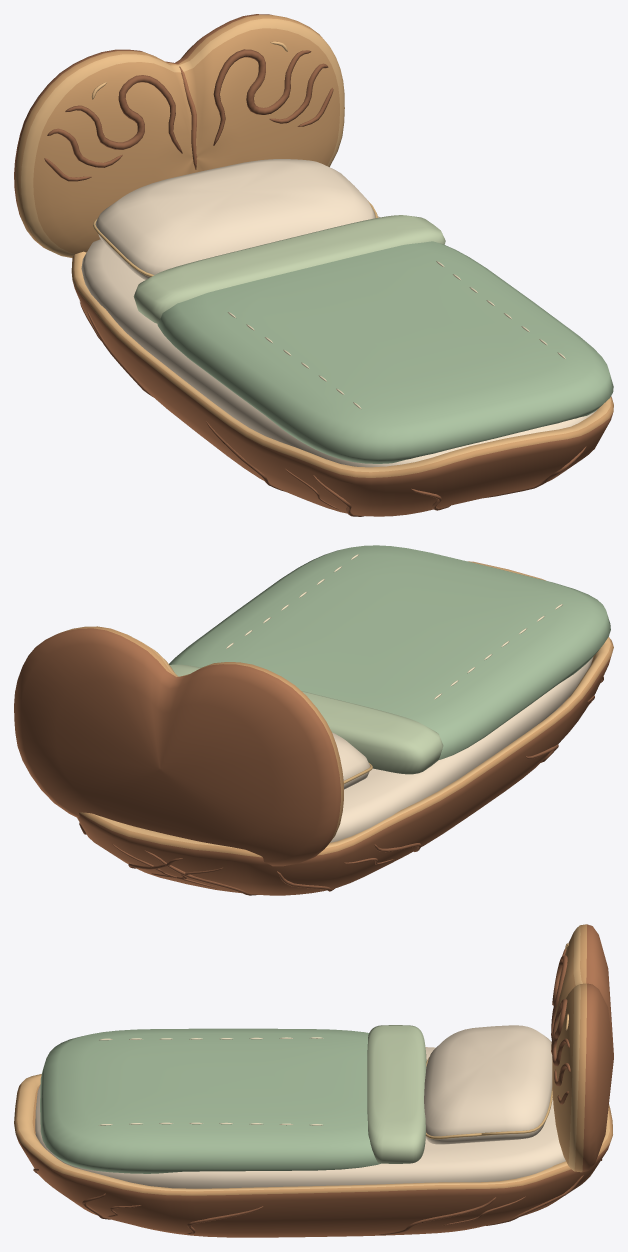
The model's file is walnut-bed.glb.
3 views of the same model, one above another, from view 1: azimuth 30°, elevation 25°; view 2: azimuth 150°, elevation 25°; view 3: azimuth 270°, elevation 25° (orthographic). The views are drawn at different scales.
Parts seen in each view (by area): view 1: walnutBed; view 2: walnutBed; view 3: walnutBed.
Boxes of the visible parts, left/top/right/bottom form: walnutBed: left=14, top=14, right=613, bottom=516; walnutBed: left=14, top=545, right=613, bottom=895; walnutBed: left=14, top=924, right=613, bottom=1237.
Bounding box in the file's own units: 1.61 × 1.3 × 2.97.
